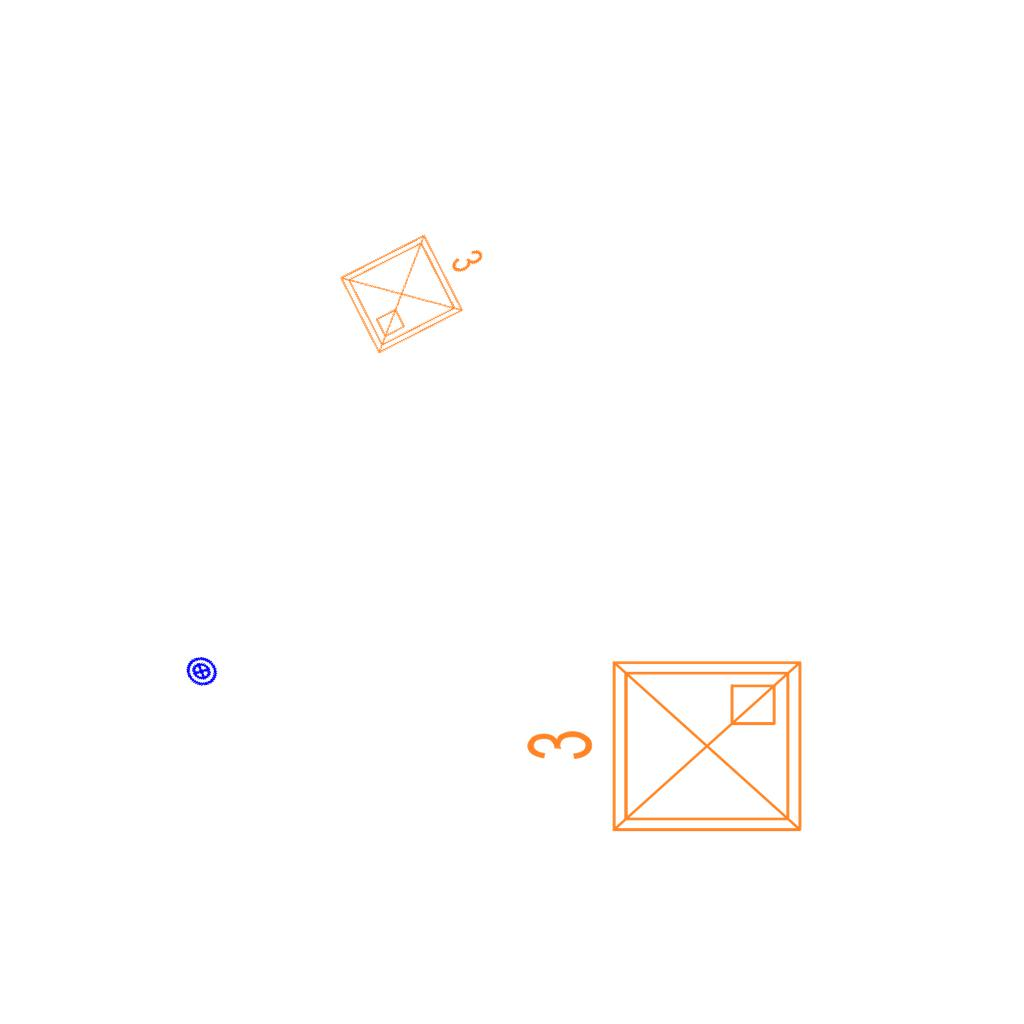Einbaudownlights_LED_Konferenzraeume: (516, 646, 816, 854), (328, 202, 510, 364)
Taster_beleuchtet: (179, 649, 224, 694)
